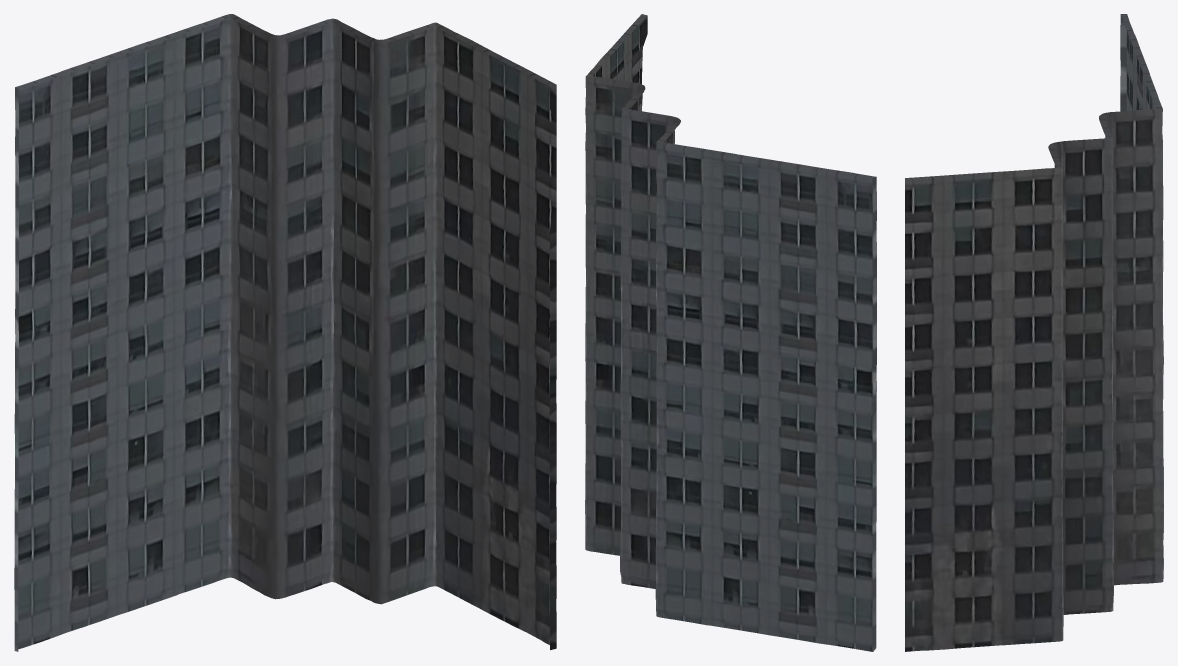
File: z20-167762-405238-h1-yup-uvflip-v3-world.glb
3 views of the same model, side by side, from view 1: azimuth 30°, elevation 25°; view 2: azimuth 150°, elevation 25°; view 3: azimuth 270°, elevation 25° (orthographic). The views are drawn at different scales.
Bounding box in the file's own units: 29.64 × 39.04 × 19.44.
Materials: 1 (1 with a texture image).
